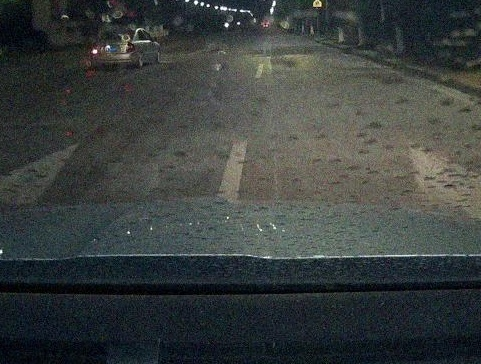L_light: (89, 48, 100, 54)
R_light: (124, 44, 135, 51)
T_light: (117, 30, 124, 32)
night-left: (88, 27, 139, 71)
